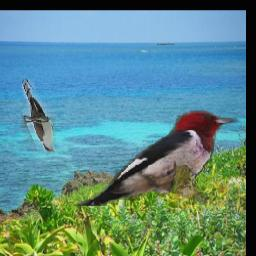Cuckoo: (22, 80, 56, 153)
Woodpecker: (73, 110, 241, 207)
